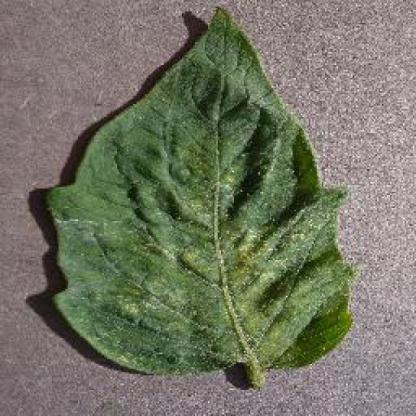Tomato_Spider_Mites: (49, 9, 352, 365)
